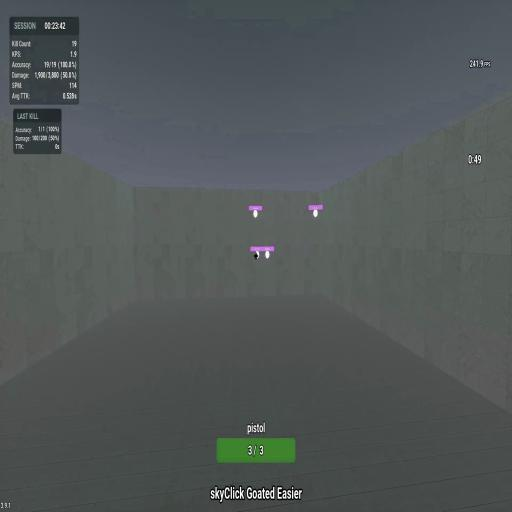Crosshair: (254, 252, 258, 260)
Target: (312, 209, 318, 217), (253, 210, 258, 218), (255, 251, 259, 259), (265, 251, 269, 258)
